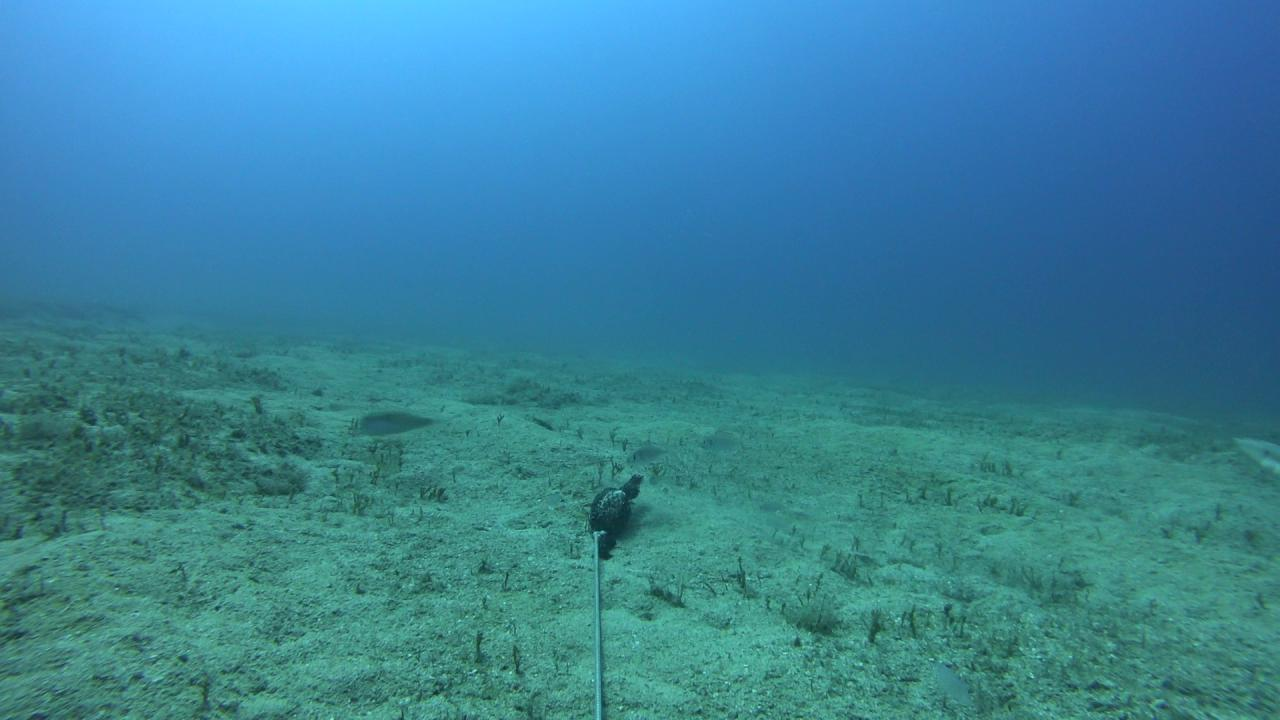pagellus: (934, 658, 982, 711), (624, 441, 671, 467), (699, 429, 745, 454)
raor: (355, 410, 452, 443)
